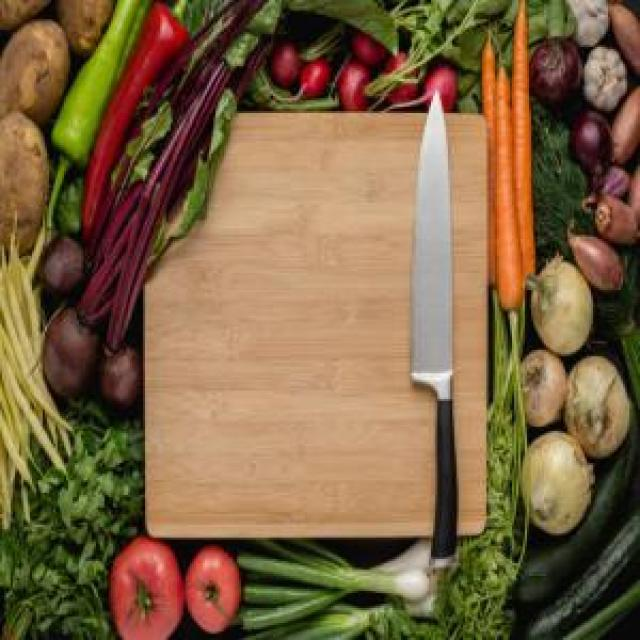knife: (407, 83, 463, 569)
